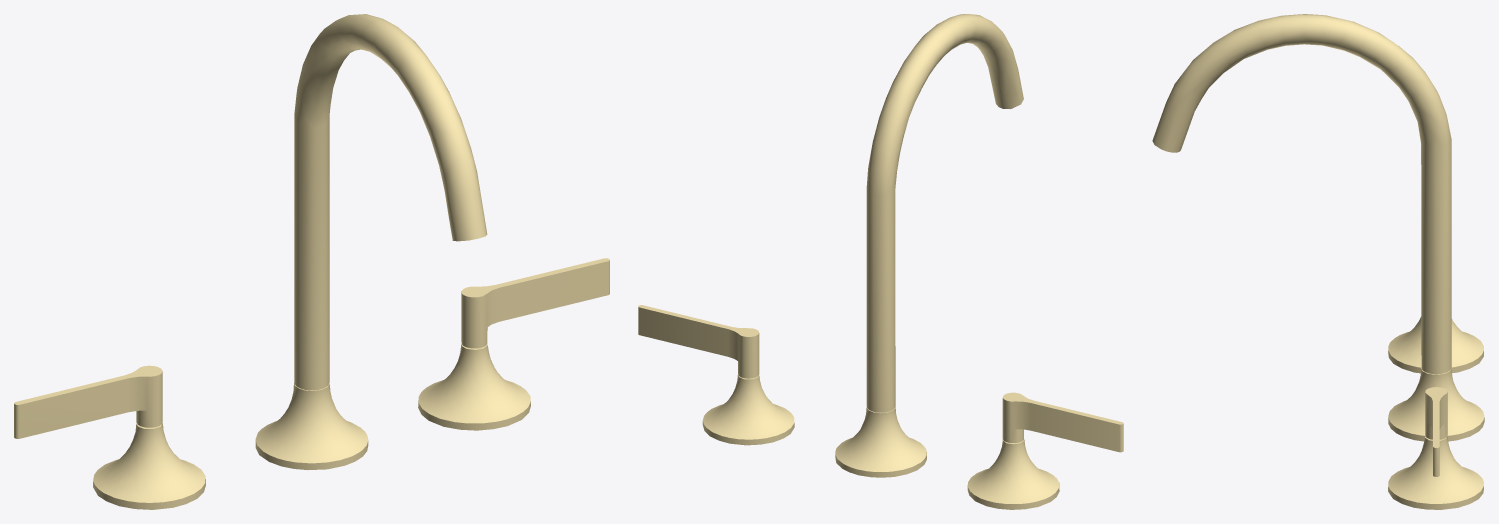
The picture shows the model from 3 angles, left to right: view 1: azimuth 30°, elevation 25°; view 2: azimuth 150°, elevation 25°; view 3: azimuth 270°, elevation 25°; orthographic projection. The views are drawn at different scales.
Parts seen in each view (by area): view 1: L_5d4efa89_779e_4f6f_84eb_1e48ffb96715_I8, L_3679bb52_b2d8_49d9_919e_0c9b4b23effb_I6, L_afde61bf_8ec3_4fd9_a7a9_9b6805504fb0_I9, L_1027408b_4fd7_4f08_94c4_f154dd1f3bb8_I2, L_0fe7bce2_7336_4871_ab28_3f3655b94761_I1, L_1b0b832a_fa15_4d4d_977d_92f8a5e654a8_I4; view 2: L_5d4efa89_779e_4f6f_84eb_1e48ffb96715_I8, L_3679bb52_b2d8_49d9_919e_0c9b4b23effb_I6, L_1027408b_4fd7_4f08_94c4_f154dd1f3bb8_I2, L_afde61bf_8ec3_4fd9_a7a9_9b6805504fb0_I9, L_0fe7bce2_7336_4871_ab28_3f3655b94761_I1, L_1b0b832a_fa15_4d4d_977d_92f8a5e654a8_I4; view 3: L_5d4efa89_779e_4f6f_84eb_1e48ffb96715_I8, L_1b0b832a_fa15_4d4d_977d_92f8a5e654a8_I4, L_afde61bf_8ec3_4fd9_a7a9_9b6805504fb0_I9, L_0fe7bce2_7336_4871_ab28_3f3655b94761_I1, L_3679bb52_b2d8_49d9_919e_0c9b4b23effb_I6.
Part boxes in pixels (bbox=[...]): L_5d4efa89_779e_4f6f_84eb_1e48ffb96715_I8: bbox=[294, 14, 487, 389]; L_3679bb52_b2d8_49d9_919e_0c9b4b23effb_I6: bbox=[461, 258, 609, 348]; L_afde61bf_8ec3_4fd9_a7a9_9b6805504fb0_I9: bbox=[255, 383, 368, 469]; L_1027408b_4fd7_4f08_94c4_f154dd1f3bb8_I2: bbox=[14, 365, 162, 438]; L_0fe7bce2_7336_4871_ab28_3f3655b94761_I1: bbox=[93, 423, 205, 509]; L_1b0b832a_fa15_4d4d_977d_92f8a5e654a8_I4: bbox=[418, 344, 530, 430]; L_5d4efa89_779e_4f6f_84eb_1e48ffb96715_I8: bbox=[866, 14, 1023, 412]; L_3679bb52_b2d8_49d9_919e_0c9b4b23effb_I6: bbox=[638, 305, 759, 378]; L_1027408b_4fd7_4f08_94c4_f154dd1f3bb8_I2: bbox=[1002, 392, 1123, 452]; L_afde61bf_8ec3_4fd9_a7a9_9b6805504fb0_I9: bbox=[835, 407, 926, 477]; L_0fe7bce2_7336_4871_ab28_3f3655b94761_I1: bbox=[967, 439, 1059, 509]; L_1b0b832a_fa15_4d4d_977d_92f8a5e654a8_I4: bbox=[702, 374, 794, 445]; L_5d4efa89_779e_4f6f_84eb_1e48ffb96715_I8: bbox=[1152, 14, 1451, 373]; L_1b0b832a_fa15_4d4d_977d_92f8a5e654a8_I4: bbox=[1388, 435, 1483, 509]; L_afde61bf_8ec3_4fd9_a7a9_9b6805504fb0_I9: bbox=[1388, 367, 1484, 441]; L_0fe7bce2_7336_4871_ab28_3f3655b94761_I1: bbox=[1388, 316, 1483, 373]; L_3679bb52_b2d8_49d9_919e_0c9b4b23effb_I6: bbox=[1425, 387, 1447, 476].
Bounding box in the file's own units: 0.3659 × 0.2802 × 0.2075.
